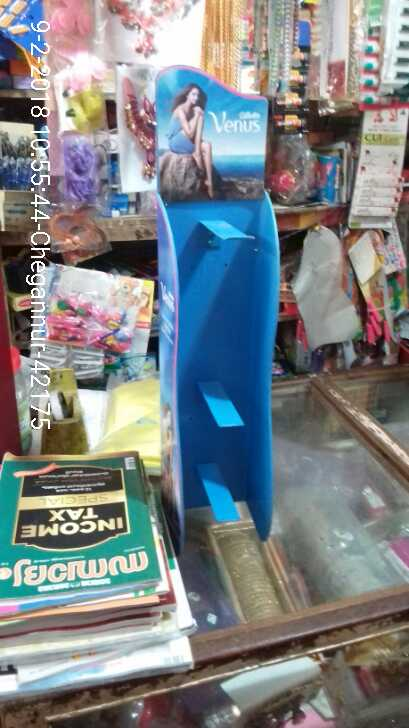reject: (159, 210, 225, 285)
